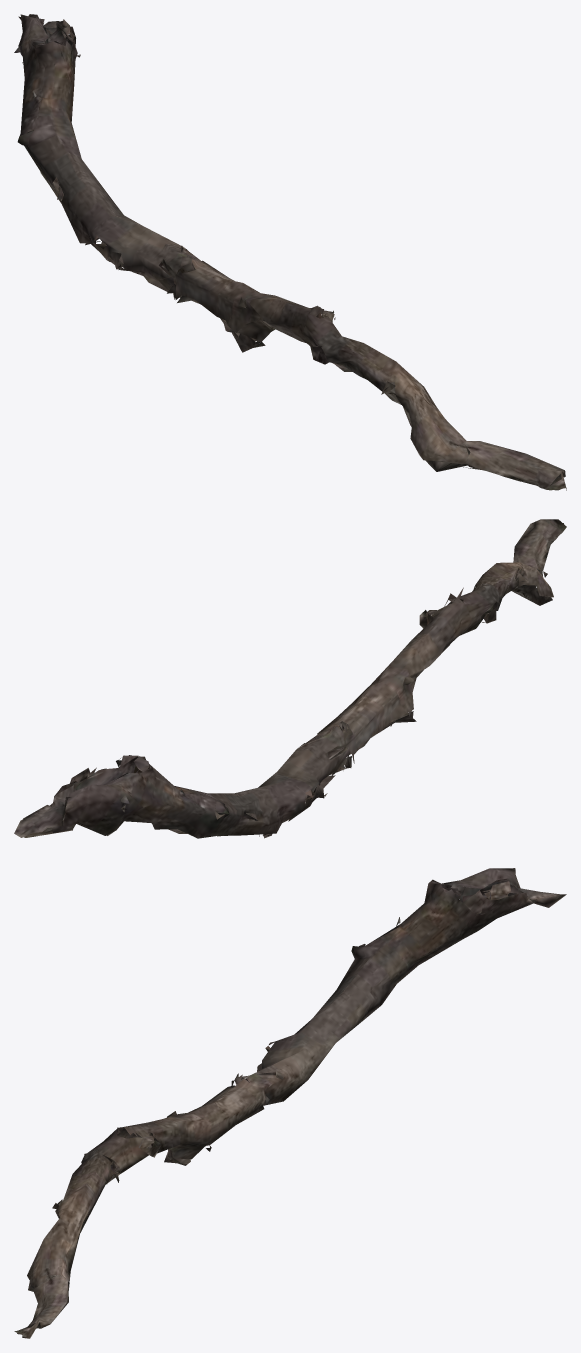
Rendered from branch_b.glb.
3 views of the same model, one above another, from view 1: azimuth 30°, elevation 25°; view 2: azimuth 150°, elevation 25°; view 3: azimuth 330°, elevation 25° (orthographic). The views are drawn at different scales.
Parts seen in each view (by area): view 1: dry_branches_medium_01_b; view 2: dry_branches_medium_01_b; view 3: dry_branches_medium_01_b.
Part boxes in pixels (box(x1,y1,x2,y2)): dry_branches_medium_01_b: box(14, 14, 566, 490); dry_branches_medium_01_b: box(14, 519, 566, 838); dry_branches_medium_01_b: box(14, 868, 566, 1338).
Size of the model in its own units: 0.1491 by 0.1419 by 1.04.
1 material, 1 textured.
